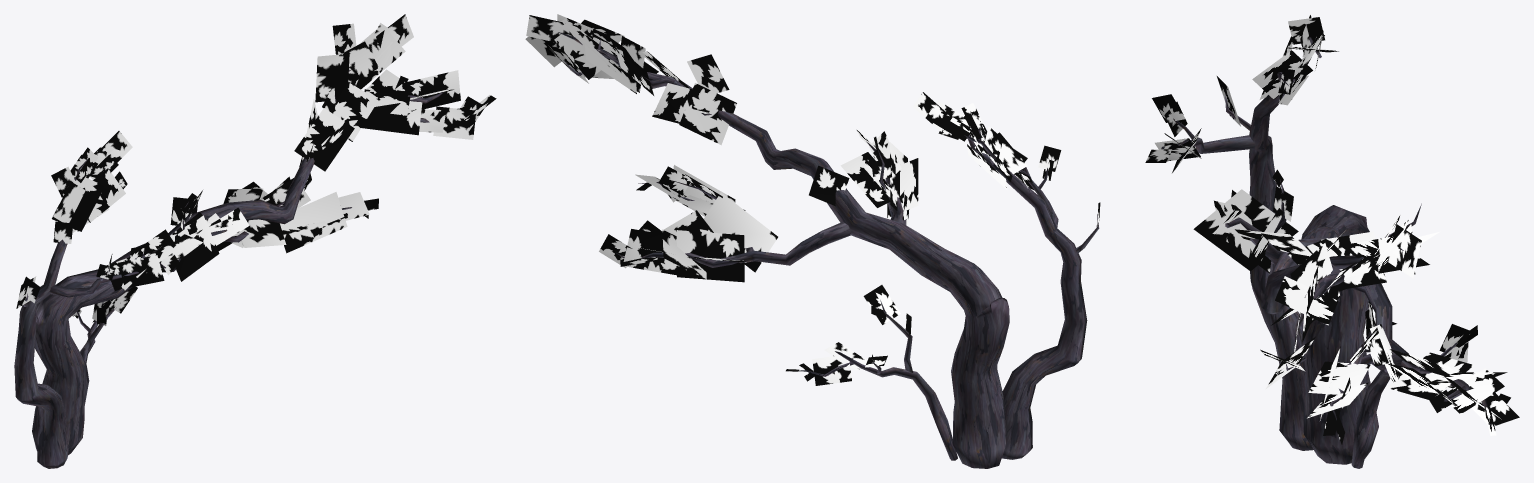
File: P_TreeWindswept03.obj
The picture shows the model from 3 angles, left to right: view 1: azimuth 30°, elevation 25°; view 2: azimuth 150°, elevation 25°; view 3: azimuth 270°, elevation 25°; orthographic projection. The views are drawn at different scales.
Bounding box in the file's own units: 18.74 × 11.88 × 8.24.
